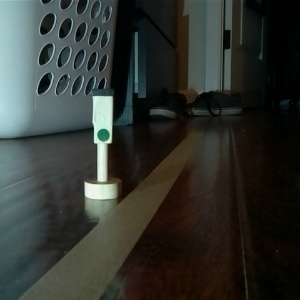traffic light green: (82, 85, 123, 201)
